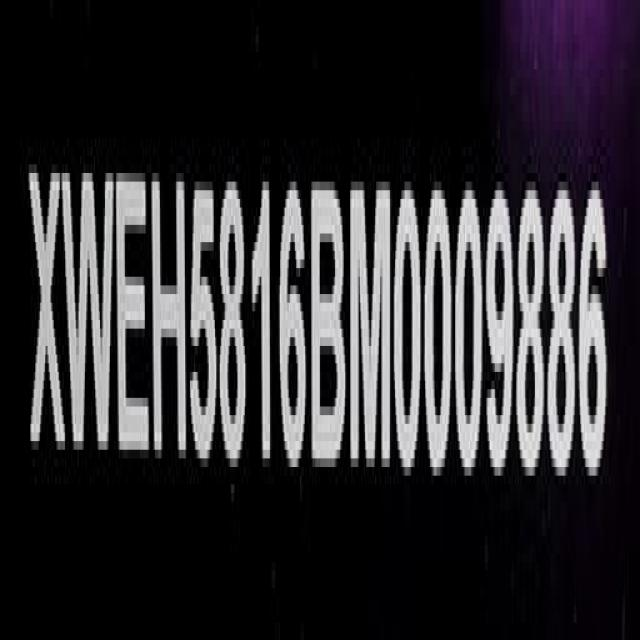0: (425, 188, 454, 480), (454, 186, 483, 478), (396, 182, 424, 476)
1: (253, 182, 276, 474)
5: (191, 177, 219, 472)
6: (576, 182, 608, 471), (278, 176, 308, 473)
8: (218, 180, 248, 472), (517, 191, 547, 478), (550, 188, 578, 477)
9: (486, 192, 515, 479)
B: (311, 179, 347, 475)
E: (118, 168, 152, 466)
H: (154, 172, 187, 468)
M: (350, 177, 392, 475)
W: (62, 168, 118, 464)
X: (28, 159, 63, 461)
